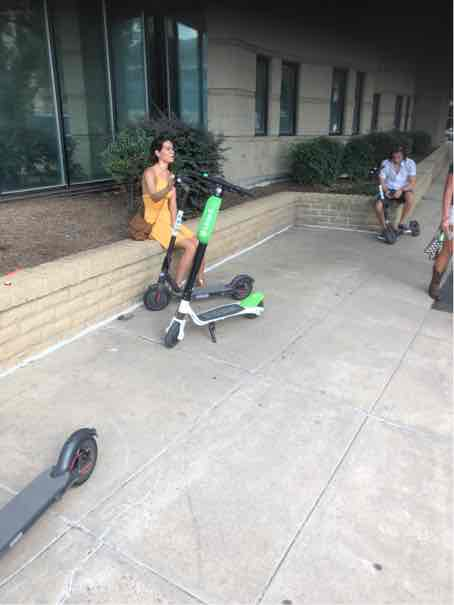scooter: (159, 158, 272, 354)
